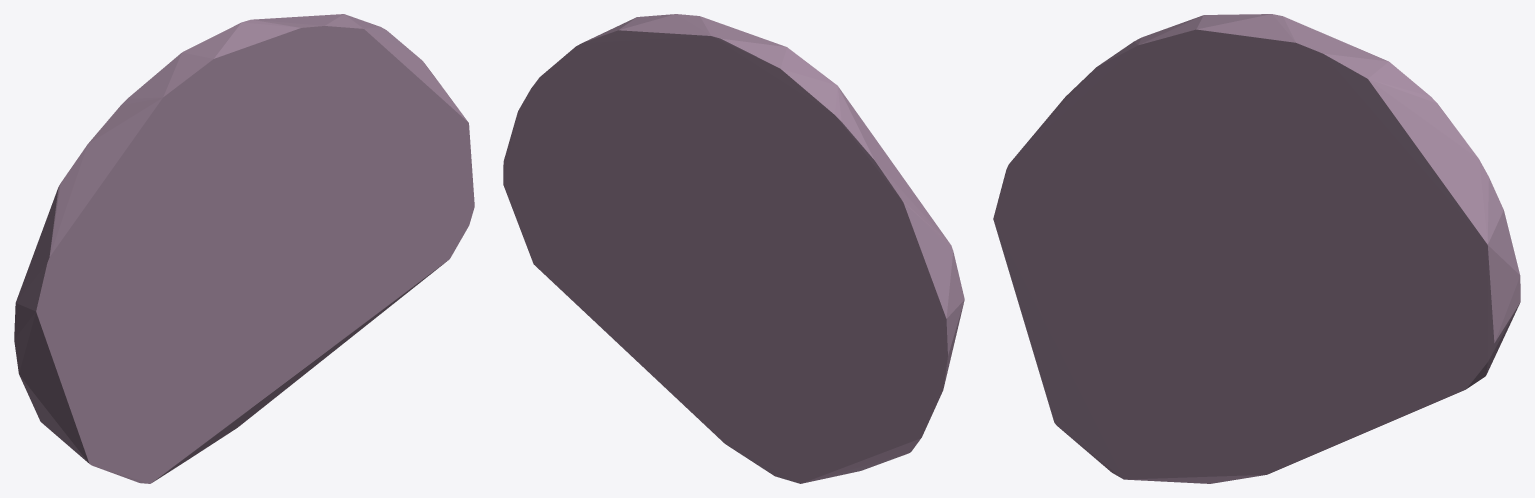
File: consumable_belt_timing_a01.glb
3 renders of one model, left to right at view 1: azimuth 30°, elevation 25°; view 2: azimuth 150°, elevation 25°; view 3: azimuth 330°, elevation 25°, orthographic. The views are drawn at different scales.
Parts seen in each view (by area): view 1: geometry_0; view 2: geometry_0; view 3: geometry_0.
Part boxes in pixels (x1=…): geometry_0: x1=14, y1=14, x2=474, y2=483; geometry_0: x1=503, y1=14, x2=964, y2=483; geometry_0: x1=993, y1=14, x2=1520, y2=483.
Bounding box in the file's own units: 0.4795 × 0.439 × 0.0361.
